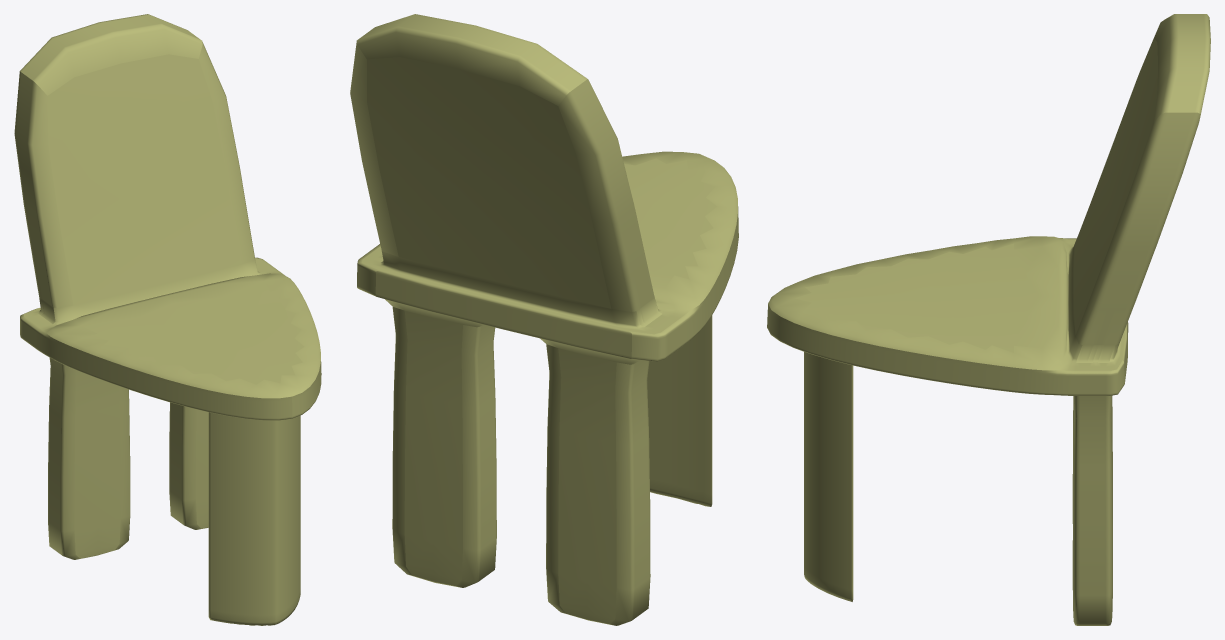
File: chair7.fbx
3 views of the same model, side by side, from view 1: azimuth 30°, elevation 25°; view 2: azimuth 150°, elevation 25°; view 3: azimuth 270°, elevation 25° (orthographic). The views are drawn at different scales.
Visible parts, largest first — view 1: Chair7; view 2: Chair7; view 3: Chair7.
Boxes of the visible parts, left/top/right/bottom form: Chair7: left=14, top=14, right=321, bottom=625; Chair7: left=350, top=14, right=738, bottom=625; Chair7: left=767, top=14, right=1210, bottom=625.
Size of the model in its own units: 52.86 by 99.15 by 73.35.
